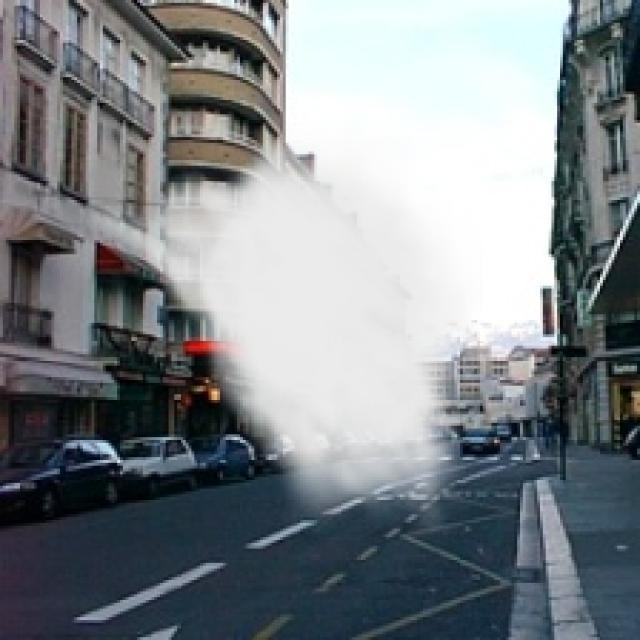Smoke: (77, 122, 483, 538)
